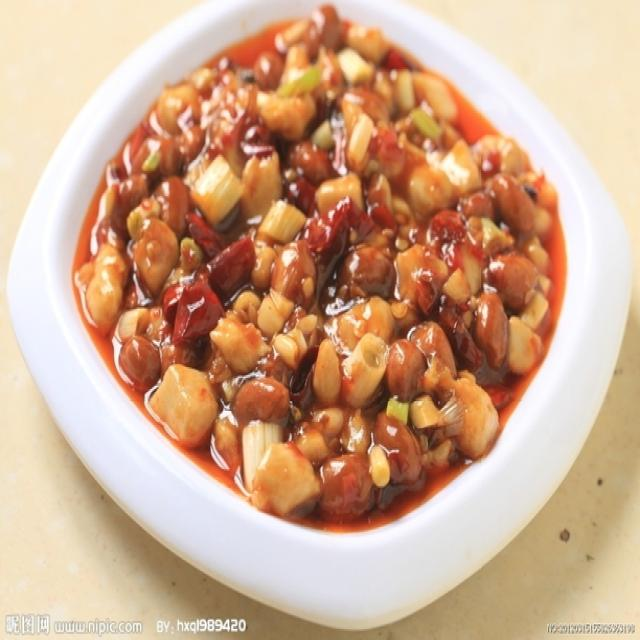鸡肉料理 含炸鸡: (44, 12, 594, 546)
